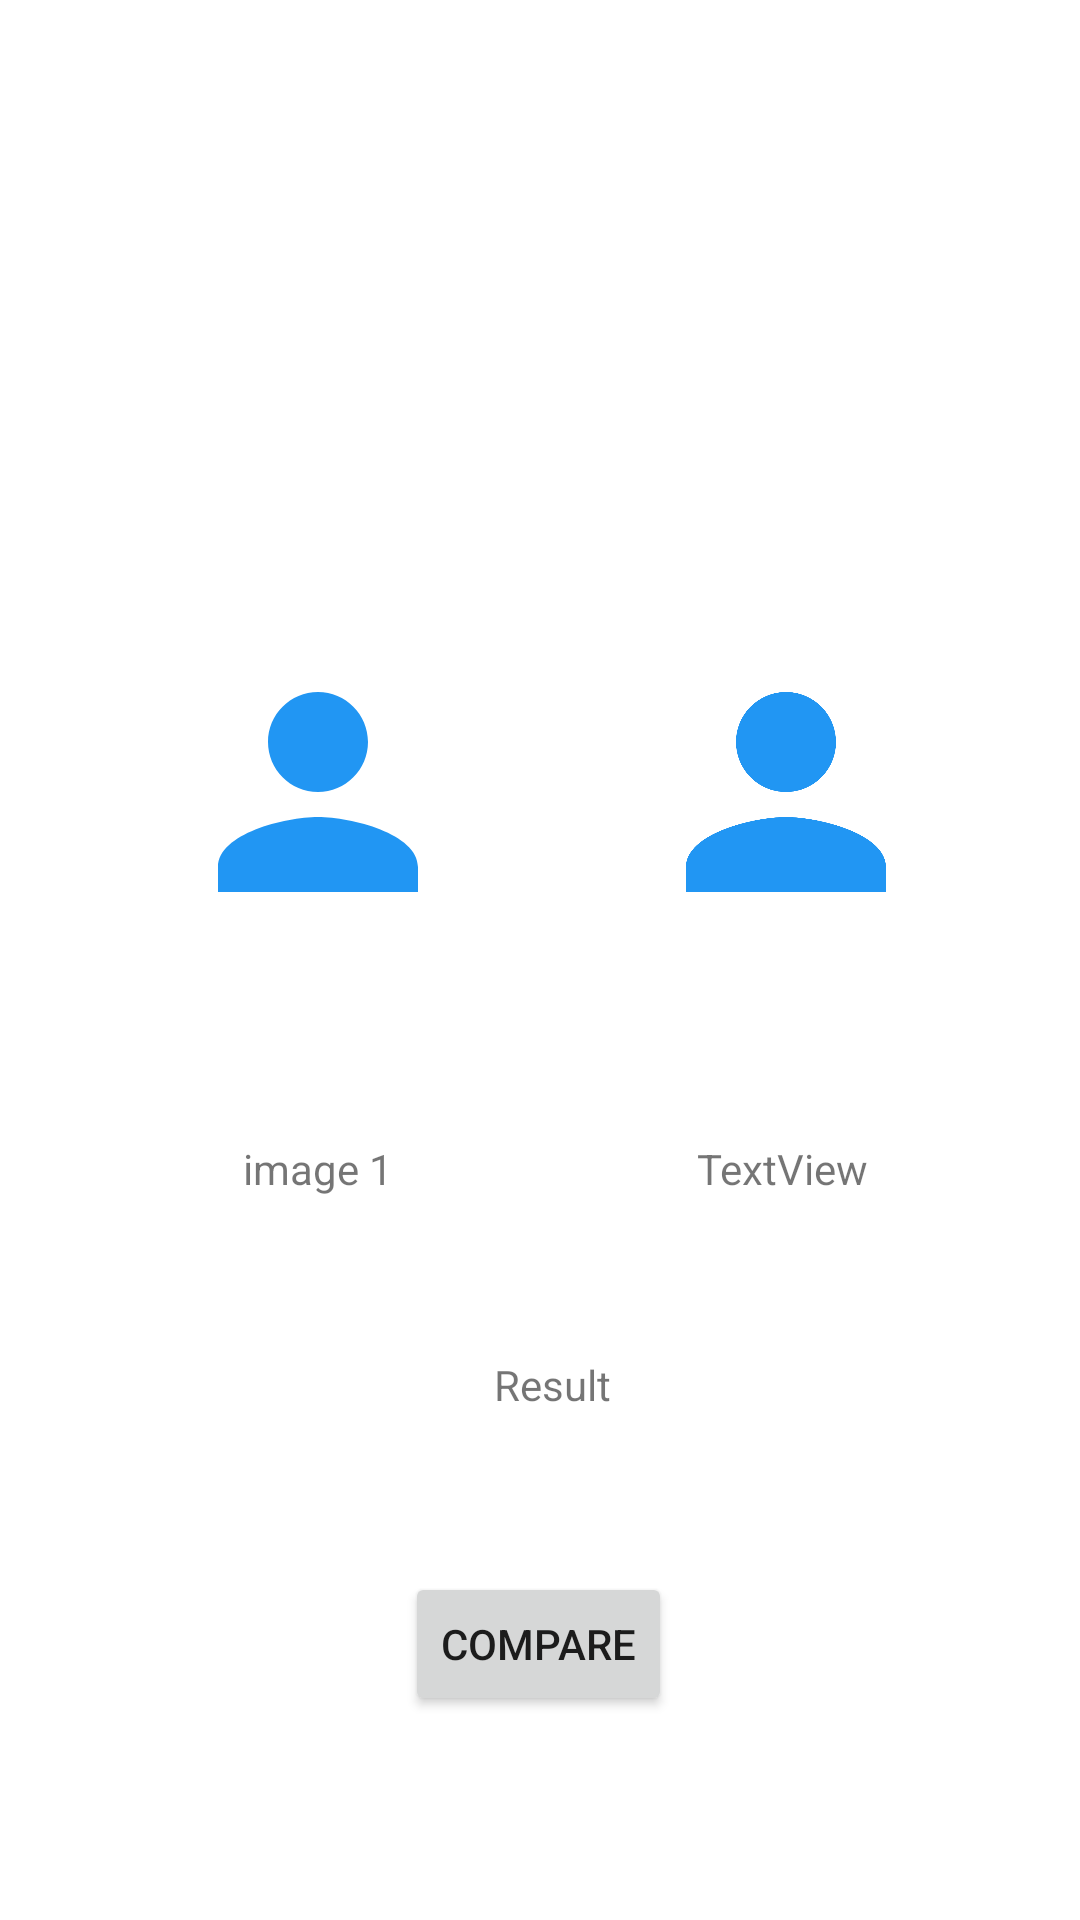

Icons on this 1080x1920 Android screen, each with the point to tap as point (x, y):
person: point (318, 792), point (786, 792)
